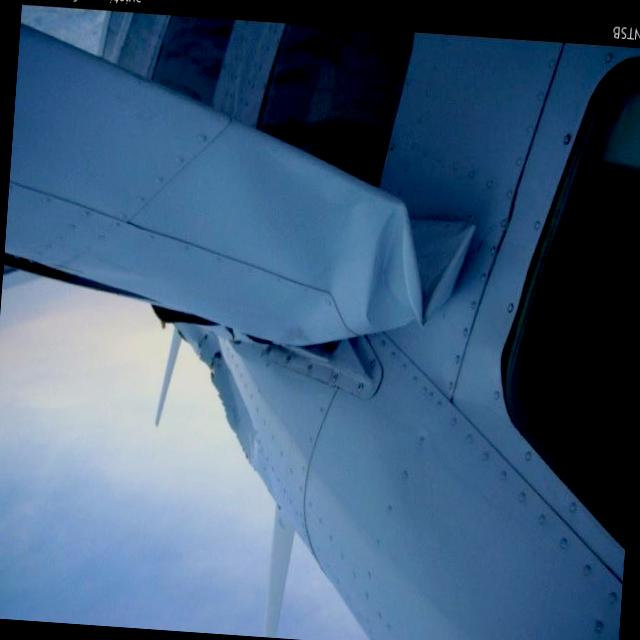dent: (355, 201, 487, 341)
